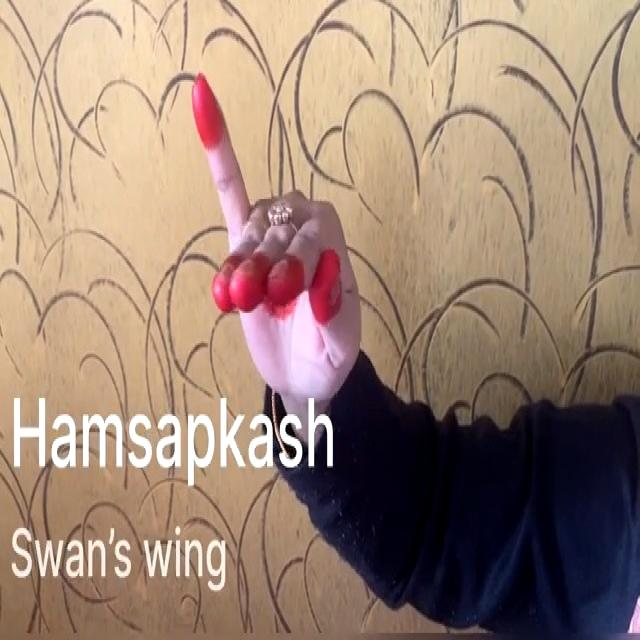Hamsapaksha: (156, 37, 386, 384)
text: (9, 386, 337, 495), (9, 514, 236, 604)
